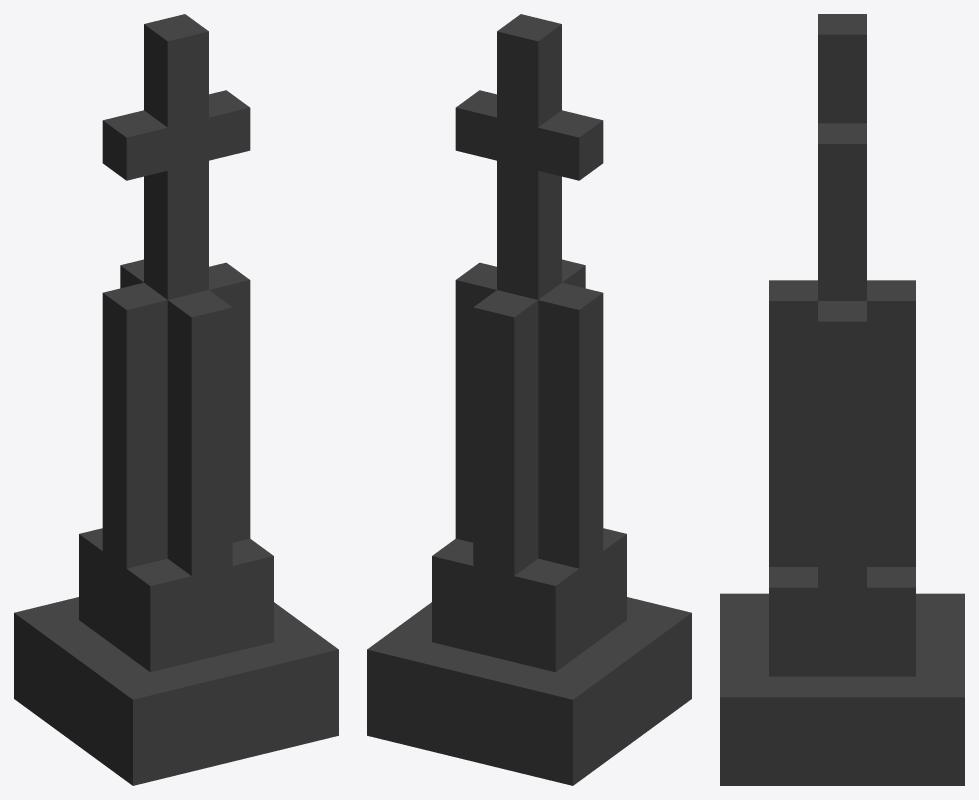
File: scene_grave.dae
The picture shows the model from 3 angles, left to right: view 1: azimuth 30°, elevation 25°; view 2: azimuth 150°, elevation 25°; view 3: azimuth 270°, elevation 25°; orthographic projection. The views are drawn at different scales.
Visible parts, largest first — view 1: scene_grave; view 2: scene_grave; view 3: scene_grave.
Boxes of the visible parts, box(x1,y1,x2,y2) form: scene_grave: box(14, 14, 338, 785); scene_grave: box(367, 14, 691, 785); scene_grave: box(720, 14, 964, 785).
Bounding box in the file's own units: 0.5 × 0.5 × 1.6.
